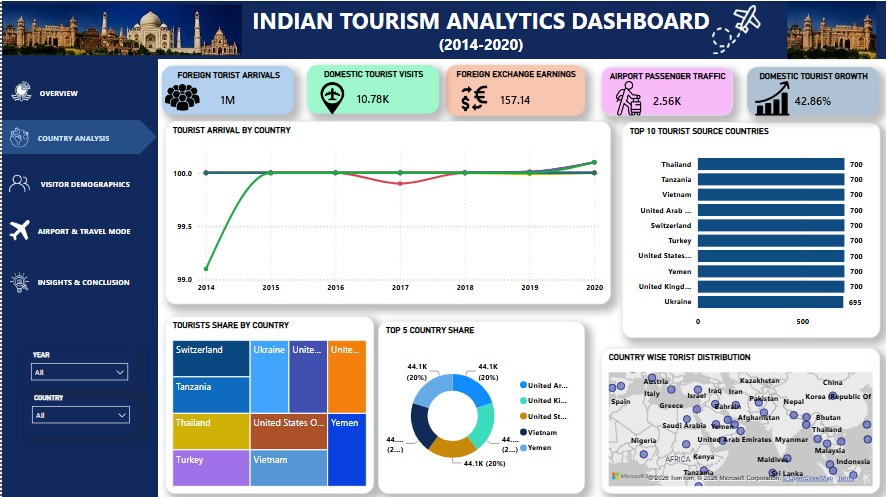

This screenshot's page, from the dashboard's own definition file:
{"tool":"powerbi","page":{"name":"COUNTRY ANALYSIS","canvas":[1280,720],"ordinal":1},"visuals":[{"type":"shape","box":[0,76.3,224.6,643.7],"z":0},{"type":"actionButton","box":[50.4,119.5,99.4,25.9],"z":1000},{"type":"cardVisual","title":" FOREIGN TORIST ARRIVALS","fields":{"Data":["Sum(General Data 2014-2020.feeftit)"]},"box":[230.4,93.6,190,70],"z":2000},{"type":"cardVisual","title":"AIRPORT PASSENGER TRAFFIC","fields":{"Data":["Sum(General Data 2014-2020.apfitr)"]},"box":[862.6,95,190,70],"z":3000},{"type":"treemap","title":"TOURISTS SHARE BY COUNTRY","fields":{"Values":["Sum(Country Wise Age Group.Value)"],"Group":["Country Wise Visitors Ways.Country of Nationality"]},"box":[234.7,453.6,301,256.3],"z":4000},{"type":"cardVisual","title":" FOREIGN EXCHANGE EARNINGS","fields":{"Data":["Sum(General Data 2014-2020.feeftust)"]},"box":[639.4,92.2,200,73.4],"z":5000},{"type":"cardVisual","title":"DOMESTIC TOURIST VISITS","fields":{"Data":["Sum(General Data 2014-2020.nodtvasu)"]},"box":[438.8,92.2,190,70],"z":6000},{"type":"slicer","fields":{"Values":["Country Wise Airport.Attribute.1"]},"box":[31.7,498.2,159.8,61.9],"z":7000},{"type":"lineChart","title":"TOURIST ARRIVAL BY COUNTRY","fields":{"Series":["Country Wise Visitors Ways.Country of Nationality"],"Y":["Sum(Country Wise Visitors Ways.Value)"],"Category":["Country Wise Visitors Ways.Attribute.1"]},"box":[234.7,172.8,642.2,263.5],"z":8000},{"type":"image","box":[12.7,115,30,30],"z":9000},{"type":"clusteredBarChart","title":"TOP 10 TOURIST SOURCE COUNTRIES","fields":{"Category":["Country Wise Visitors Ways.Country of Nationality"],"Y":["Sum(Country Wise Visitors Ways.Value)"]},"box":[892.8,174.2,371.5,311],"z":10000},{"type":"image","box":[9.9,182,30,30],"z":11000},{"type":"actionButton","box":[47.5,182.2,130.4,29.8],"z":12000},{"type":"image","box":[9.9,315.9,30,30],"z":13000},{"type":"actionButton","box":[47.5,315.8,151.2,30.2],"z":14000},{"type":"image","box":[9.9,247.5,30,30],"z":15000},{"type":"actionButton","box":[51.8,247.4,148.3,30.2],"z":16000},{"type":"shape","box":[0,0,1278.7,83.5],"z":17000},{"type":"image","box":[1006.6,5.8,102.2,70.6],"z":18000},{"type":"cardVisual","title":"DOMESTIC TOURIST GROWTH","fields":{"Data":["Avg(General Data 2014-2020.nodtvasuagr)"]},"box":[1072.8,95,190,70],"z":19000},{"type":"donutChart","title":"TOP 5 COUNTRY SHARE","fields":{"Y":["Sum(Country Wise Gender.Value)"],"Category":["Country Wise Visitors Ways.Country of Nationality"]},"box":[541.4,460.8,298.1,249.1],"z":20000},{"type":"map","title":"COUNTRY WISE TORIST DISTRIBUTION","fields":{"Category":["Country Wise Visitors Ways.Country of Nationality"],"Size":["Sum(Country Wise Visitors Ways.Value)"]},"box":[862.6,499.7,401.8,210.2],"z":21000},{"type":"textbox","box":[326.9,0,725.8,89.3],"z":22000},{"type":"actionButton","box":[47.5,390.2,148.3,27.4],"z":25000},{"type":"image","box":[9.9,390.2,30,30],"z":27000},{"type":"image","box":[234.7,113.8,50,50.4],"z":29000},{"type":"image","box":[450.7,115.2,50,50],"z":30000},{"type":"image","box":[1084.3,115.2,50,50],"z":31000},{"type":"image","box":[877,115.2,50,50],"z":32000},{"type":"image","box":[655.2,115.2,50,50],"z":33000},{"type":"image","box":[1.4,0,344.2,83.5],"z":34000},{"type":"image","box":[1108.6,0,171.4,83.5],"z":35000},{"type":"shape","box":[1.4,105.1,223.2,49],"z":36000},{"type":"shape","box":[0,171.4,223.2,49],"z":37000},{"type":"shape","box":[0,237.6,223.2,49],"z":38000},{"type":"shape","box":[0,306.7,223.2,49],"z":39000},{"type":"shape","box":[1.4,380.2,223.2,49],"z":42000},{"type":"slicer","fields":{"Values":["Country Wise Age Group.Country of Nationality"]},"box":[33.1,560.2,161.3,66.2],"z":43000}]}

Visuals, with their boxes in screenshot pixels (x1, y1, x2, y2), scaled from the page's 1280x720 canvas onto the 886x497 screenshot:
shape: BBox(0, 53, 155, 496)
actionButton: BBox(35, 82, 104, 100)
" FOREIGN TORIST ARRIVALS" cardVisual: BBox(159, 65, 291, 113)
"AIRPORT PASSENGER TRAFFIC" cardVisual: BBox(597, 66, 729, 114)
"TOURISTS SHARE BY COUNTRY" treemap: BBox(162, 313, 371, 490)
" FOREIGN EXCHANGE EARNINGS" cardVisual: BBox(443, 64, 581, 114)
"DOMESTIC TOURIST VISITS" cardVisual: BBox(304, 64, 435, 112)
slicer - Country Wise Airport.Attribute.1: BBox(22, 344, 133, 387)
"TOURIST ARRIVAL BY COUNTRY" lineChart: BBox(162, 119, 607, 301)
image: BBox(9, 79, 30, 100)
"TOP 10 TOURIST SOURCE COUNTRIES" clusteredBarChart: BBox(618, 120, 875, 335)
image: BBox(7, 126, 28, 146)
actionButton: BBox(33, 126, 123, 146)
image: BBox(7, 218, 28, 239)
actionButton: BBox(33, 218, 138, 239)
image: BBox(7, 171, 28, 192)
actionButton: BBox(36, 171, 139, 192)
shape: BBox(0, 0, 885, 58)
image: BBox(697, 4, 767, 53)
"DOMESTIC TOURIST GROWTH" cardVisual: BBox(743, 66, 874, 114)
"TOP 5 COUNTRY SHARE" donutChart: BBox(375, 318, 581, 490)
"COUNTRY WISE TORIST DISTRIBUTION" map: BBox(597, 345, 875, 490)
textbox: BBox(226, 0, 729, 62)
actionButton: BBox(33, 269, 136, 288)
image: BBox(7, 269, 28, 290)
image: BBox(162, 79, 197, 113)
image: BBox(312, 80, 347, 114)
image: BBox(751, 80, 785, 114)
image: BBox(607, 80, 642, 114)
image: BBox(454, 80, 488, 114)
image: BBox(1, 0, 239, 58)
image: BBox(767, 0, 885, 58)
shape: BBox(1, 73, 155, 106)
shape: BBox(0, 118, 154, 152)
shape: BBox(0, 164, 154, 198)
shape: BBox(0, 212, 154, 246)
shape: BBox(1, 262, 155, 296)
slicer - Country Wise Age Group.Country of Nationality: BBox(23, 387, 135, 432)
